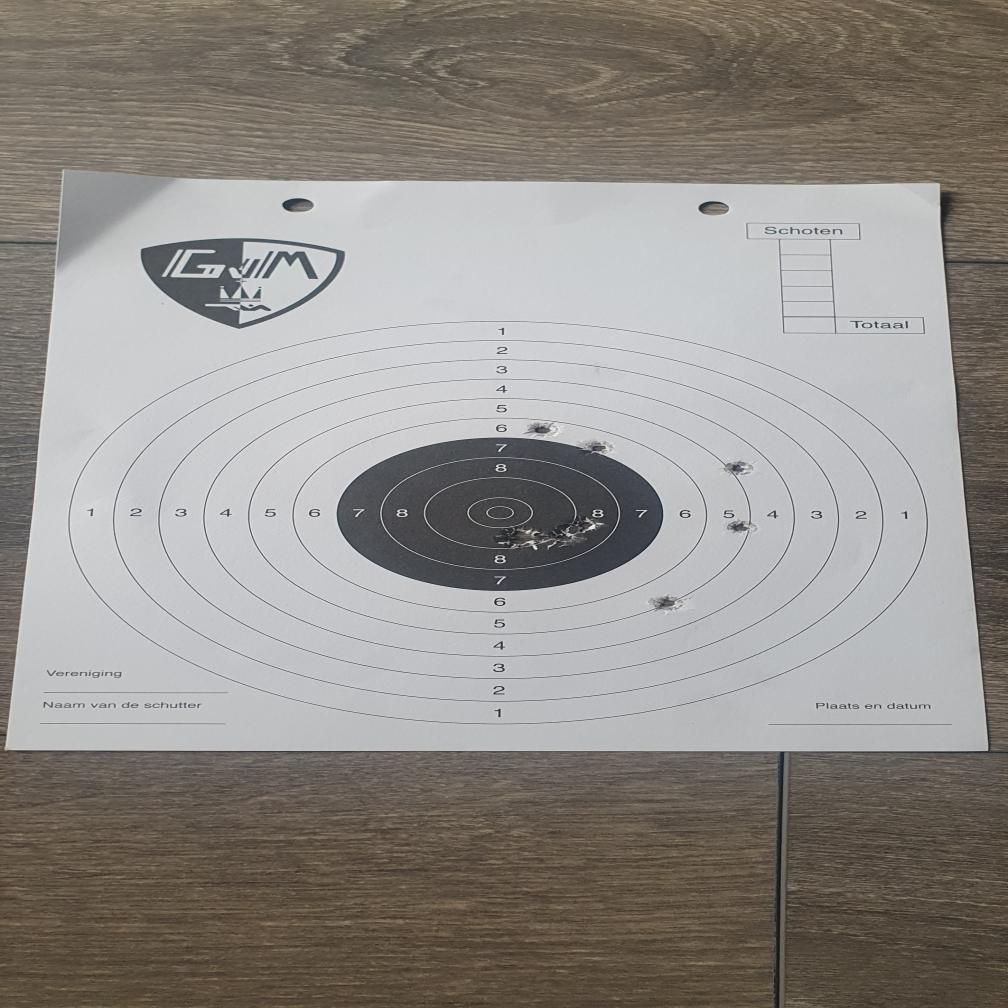10: (494, 525, 551, 551)
5: (646, 594, 698, 615), (718, 460, 760, 477), (724, 519, 761, 536)
6: (521, 420, 566, 440)
7: (576, 438, 620, 457)
9: (542, 525, 588, 548), (567, 515, 605, 536)
Target: (62, 317, 930, 728)
black_contour: (340, 437, 666, 591)
